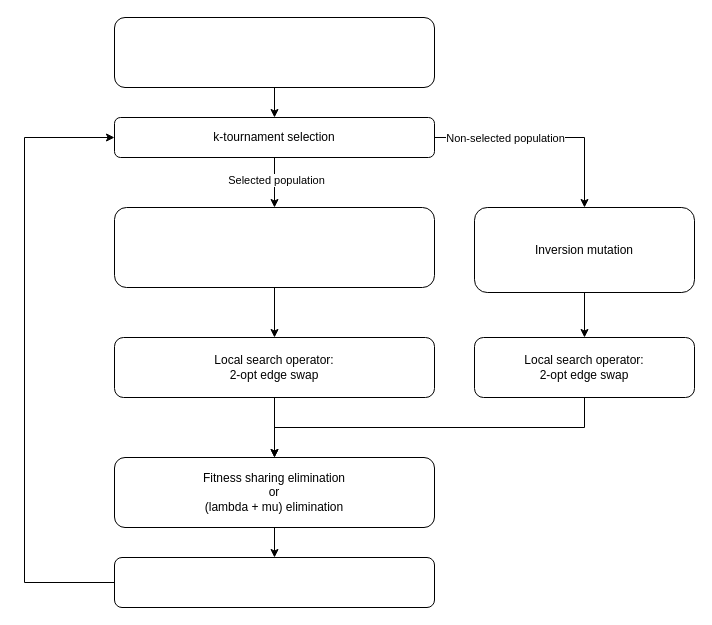
The diagram is 712 pixels wide and 625 high, and some of its shapes have lost their labels. Here are the shapes that lost their labels. From the top down, the centre of each, then its label:
At point (274, 52): "Random valid initialization (80%) + Greedy initialization (20%)".
At point (274, 247): "PMX recombination operator + Inversion mutation".
At point (274, 582): "Update parameter control".
